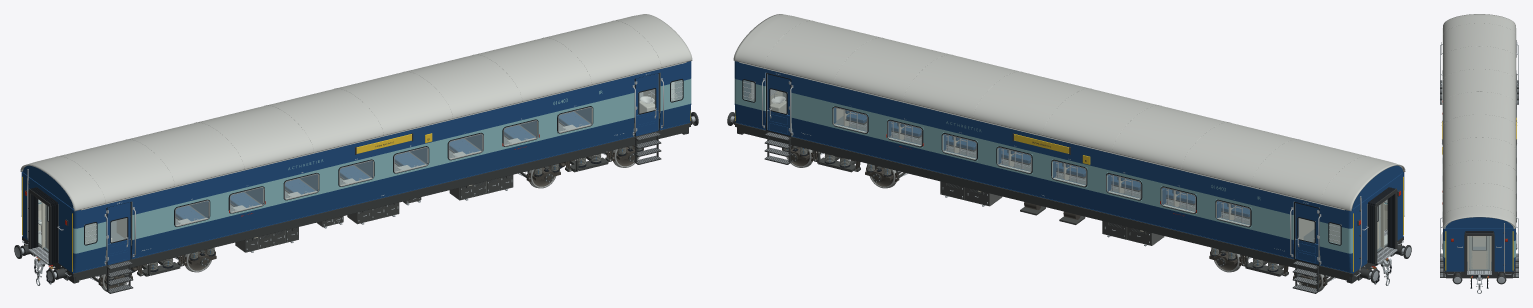
The model's file is ICF_3A.fbx.
3 views of the same model, side by side, from view 1: azimuth 30°, elevation 25°; view 2: azimuth 150°, elevation 25°; view 3: azimuth 270°, elevation 25° (orthographic). The views are drawn at different scales.
Parts seen in each view (by area): view 1: Curved steel roof continuous skin, Welded solebar channel, Floor steel undertray, Bodyside roof rain gutter, Formed end wall, Pressed bodyside skin.134, Pressed bodyside skin.022, Pressed bodyside skin.030, Pressed bodyside skin.072, Pressed bodyside skin.086, Pressed bodyside skin.128, Pressed bodyside skin.044 (+26 smaller); view 2: Curved steel roof continuous skin, Welded solebar channel.001, Floor steel undertray, Interior floor seamless vinyl, Bodyside roof rain gutter.001, Pressed bodyside skin.298, Pressed bodyside skin.186, Formed end wall.001, Pressed bodyside skin.194, Pressed bodyside skin.236, Pressed bodyside skin.250, Pressed bodyside skin.292 (+26 smaller); view 3: Curved steel roof continuous skin, Formed end wall.002, Formed end wall.003, Domed end cap skin.001, End sliding door panel.002, End wall door header.001, Headstock buffer beam.001, Bodyside roof rain gutter, Bodyside roof rain gutter.001, End door clear window.001, Gangway sprung face frame.002, Gangway sprung face frame.003 (+11 smaller).
Boxes of the visible parts, x1,y1,x2,y2 form: Curved steel roof continuous skin: (20,14,692,211); Welded solebar channel: (75,128,687,281); Floor steel undertray: (22,123,690,277); Bodyside roof rain gutter: (81,62,686,210); Formed end wall: (58,201,73,273); Pressed bodyside skin.134: (591,118,634,146); Pressed bodyside skin.022: (131,230,174,258); Pressed bodyside skin.030: (173,221,209,248); Pressed bodyside skin.072: (337,181,373,208); Pressed bodyside skin.086: (392,168,428,195); Pressed bodyside skin.128: (556,128,592,155); Pressed bodyside skin.044: (228,208,264,235); Curved steel roof continuous skin: (733,14,1405,211); Welded solebar channel.001: (738,128,1350,281); Floor steel undertray: (735,123,1403,277); Interior floor seamless vinyl: (767,116,1387,265); Bodyside roof rain gutter.001: (739,62,1344,210); Pressed bodyside skin.298: (791,118,834,146); Pressed bodyside skin.186: (1251,230,1293,258); Formed end wall.001: (1352,201,1367,273); Pressed bodyside skin.194: (1216,221,1252,248); Pressed bodyside skin.236: (1052,181,1088,208); Pressed bodyside skin.250: (997,168,1033,195); Pressed bodyside skin.292: (833,128,869,155); Curved steel roof continuous skin: (1443,14,1515,228); Formed end wall.002: (1445,230,1464,271); Formed end wall.003: (1494,229,1513,271); Domed end cap skin.001: (1445,217,1513,228); End sliding door panel.002: (1471,250,1487,269); End wall door header.001: (1445,228,1513,231); Headstock buffer beam.001: (1446,274,1512,278); Bodyside roof rain gutter: (1442,28,1442,226); Bodyside roof rain gutter.001: (1516,28,1516,226); End door clear window.001: (1473,237,1485,249); Gangway sprung face frame.002: (1464,234,1467,273); Gangway sprung face frame.003: (1491,234,1494,273).
Bounding box in the file's own units: 350 × 2230 × 406.
